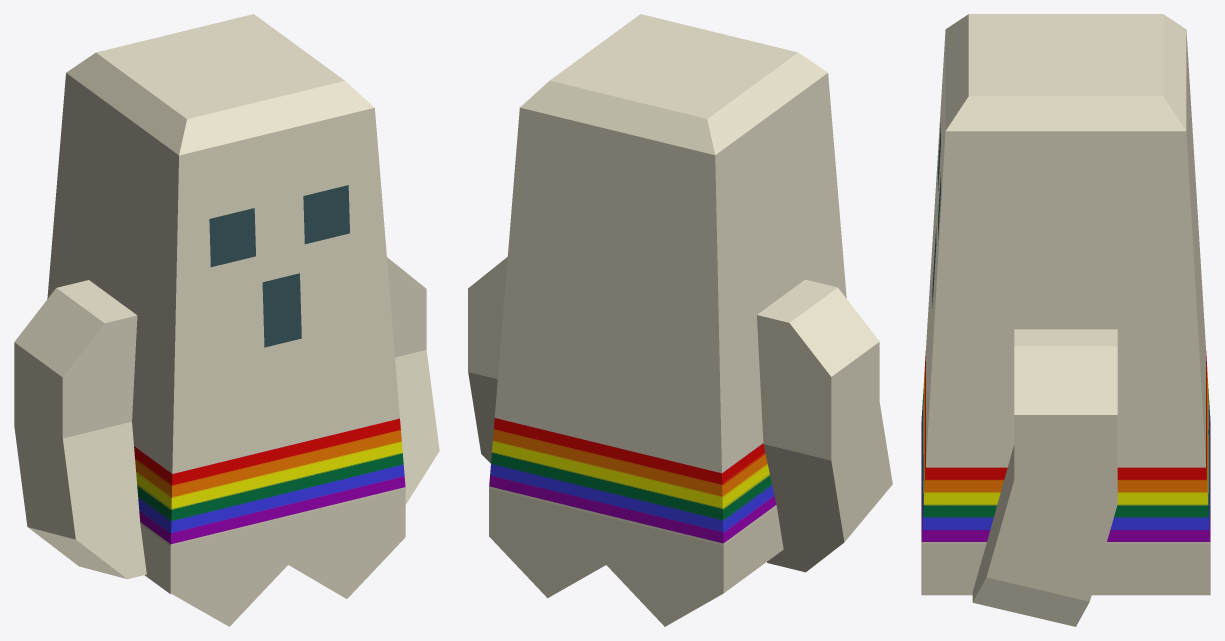
File: gayhost.fbx
The picture shows the model from 3 angles, left to right: view 1: azimuth 30°, elevation 25°; view 2: azimuth 150°, elevation 25°; view 3: azimuth 270°, elevation 25°; orthographic projection. The views are drawn at different scales.
Visible parts, largest first — view 1: body, armRight, armLeft; view 2: body, armRight, armLeft; view 3: body, armLeft.
Part boxes in pixels (x1=…): body: x1=47, y1=14, x2=405, y2=626; armRight: x1=14, y1=280, x2=146, y2=579; armLeft: x1=387, y1=257, x2=439, y2=504; body: x1=489, y1=14, x2=846, y2=626; armRight: x1=757, y1=279, x2=892, y2=572; armLeft: x1=468, y1=257, x2=507, y2=463; body: x1=921, y1=14, x2=1210, y2=595; armLeft: x1=972, y1=329, x2=1117, y2=626.
Size of the model in its own units: 19.02 by 24.85 by 12.28.
